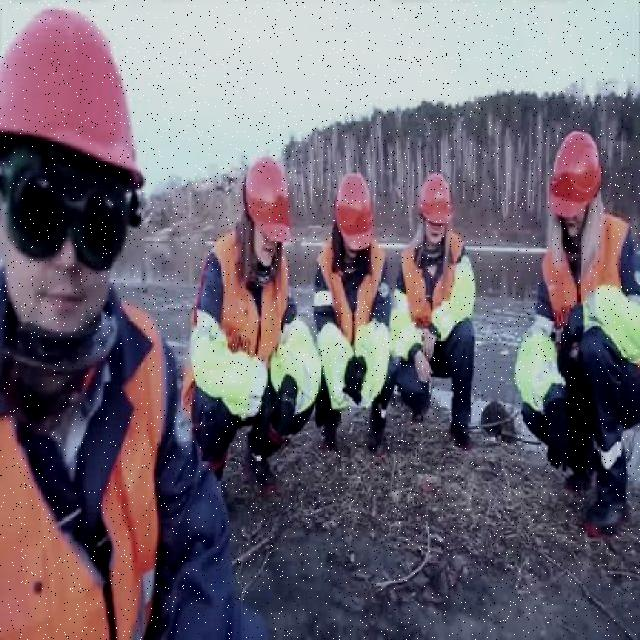Helmet: (0, 0, 148, 188), (548, 129, 604, 222), (245, 157, 292, 245), (333, 172, 376, 252), (416, 172, 456, 220)
Mask: (0, 298, 168, 638), (535, 216, 637, 530), (192, 240, 308, 486), (397, 231, 475, 446), (318, 240, 390, 452), (203, 229, 292, 360), (538, 208, 627, 312), (192, 308, 266, 417), (400, 229, 466, 334), (316, 239, 384, 330), (270, 315, 322, 414), (576, 264, 638, 340), (515, 323, 560, 417), (426, 255, 474, 342), (353, 314, 389, 408), (317, 318, 352, 402), (390, 284, 419, 360)
